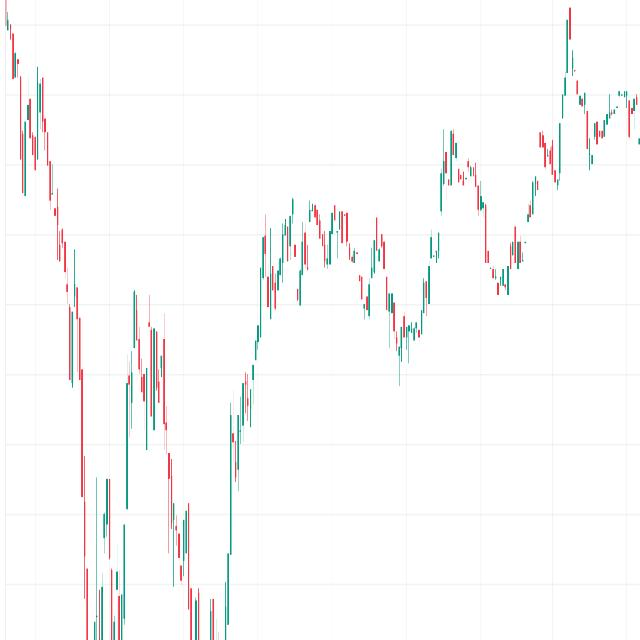rectangle: (248, 188, 398, 328)
